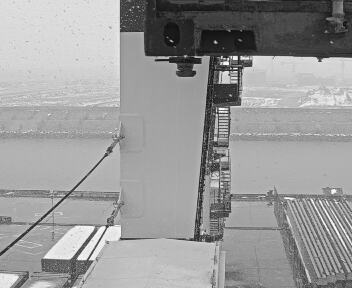twist_lock_1: (160, 50, 207, 85)
